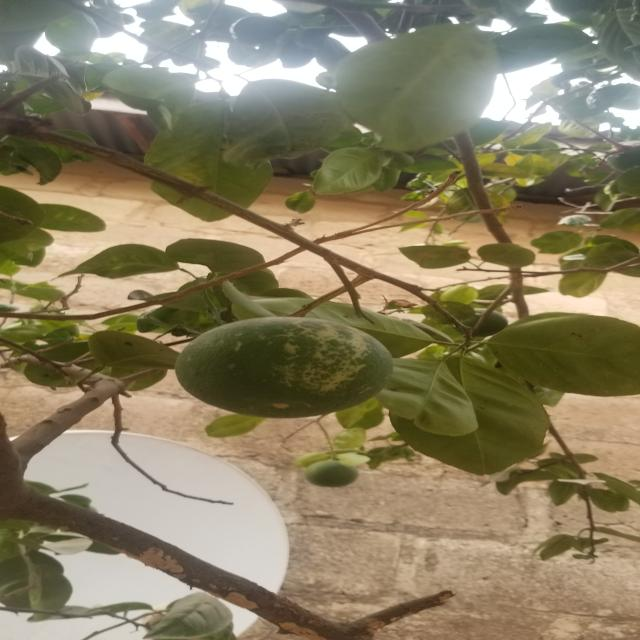Unripe: (150, 308, 421, 443)
